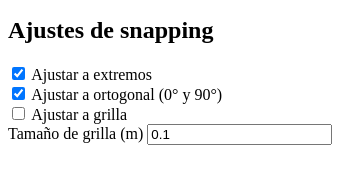
Test case: SnapSettings panel › has labelled toggles and a grid size input that validates and persists
Expected: the element "Ajustes de snapping" is shown, 8,17 -> 332,145
Click the checkbox labelled "Ajustar a grilla" at (18, 113), box 12,107 -> 25,120
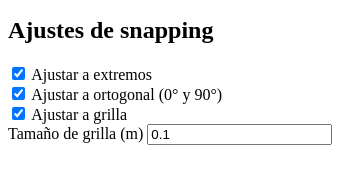
Click the checkbox labelled "Ajustar a ortogonal (0° y 90°)" at (18, 93), box 12,87 -> 25,100
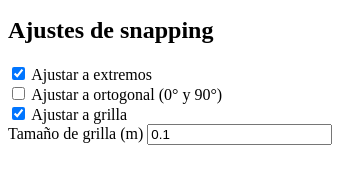
Expected: the checkbox labelled "Ajustar a extremos" is shown, 12,67 -> 25,80
Replace the text in the number field labelled "Tamaño de grilla (m)" with "0.2" at (240, 134), box 147,124 -> 332,145
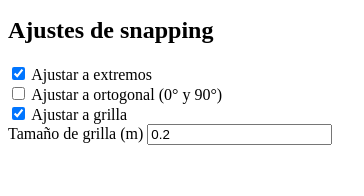
Replace the text in the number field labelled "Tamaño de grilla (m)" with "0" at (240, 134), box 147,124 -> 332,145
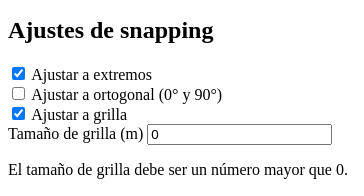
Expected: the message reads "El tamaño de grilla debe ser un número mayor que 0.", 8,161 -> 348,178
